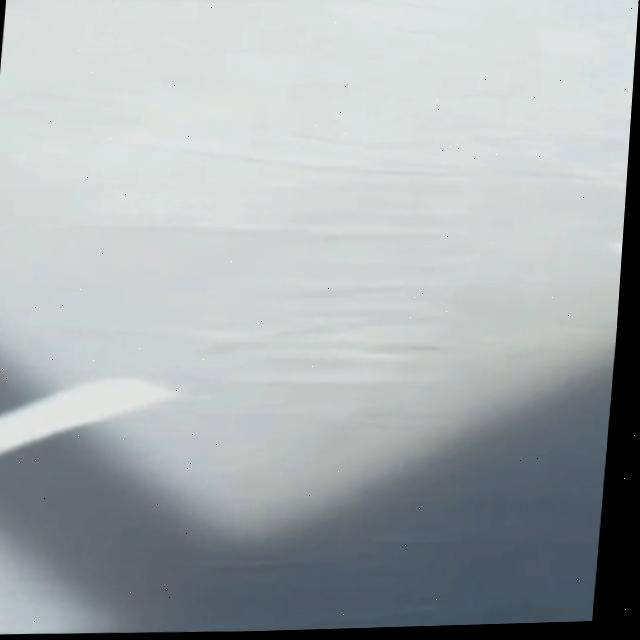center: (0, 378, 177, 454)
